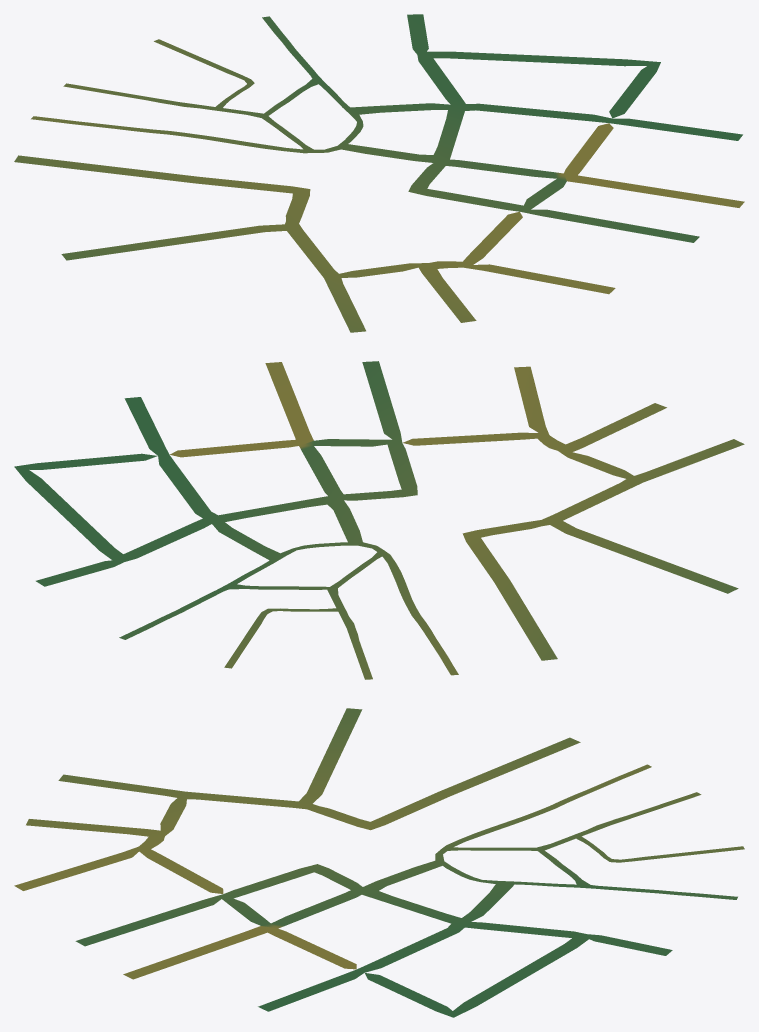
File: SM_City_Roads.fbx
3 views of the same model, one above another, from view 1: azimuth 30°, elevation 25°; view 2: azimuth 150°, elevation 25°; view 3: azimuth 270°, elevation 25° (orthographic). The views are drawn at different scales.
Visible parts, largest first — view 1: SM_CityTerrain_01.002; view 2: SM_CityTerrain_01.002; view 3: SM_CityTerrain_01.002.
Part boxes in pixels (x1,y1,x2,y2): SM_CityTerrain_01.002: (14, 14, 744, 332); SM_CityTerrain_01.002: (14, 361, 744, 679); SM_CityTerrain_01.002: (14, 708, 744, 1017).
Size of the model in its own units: 2484 by 6.43 by 2478.
